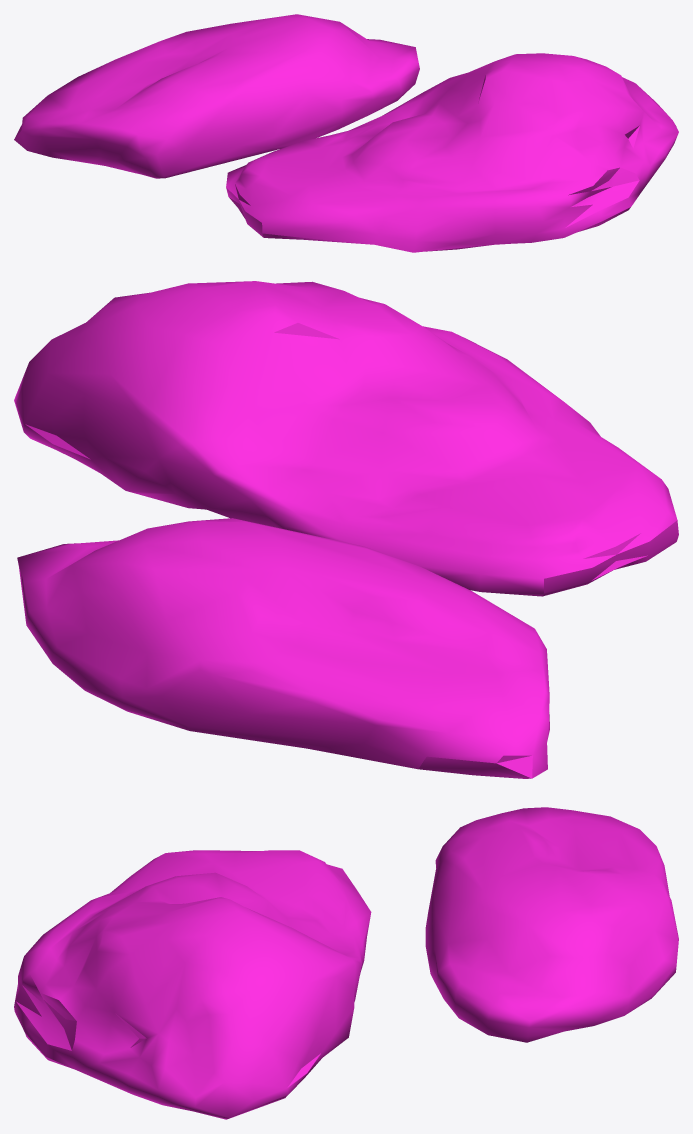
The model's file is sm_rock_03.gltf.
The picture shows the model from 3 angles, top to bottom: view 1: azimuth 30°, elevation 25°; view 2: azimuth 150°, elevation 25°; view 3: azimuth 270°, elevation 25°; orthographic projection. The views are drawn at different scales.
Visible parts, largest first — view 1: sm_rock_03; view 2: sm_rock_03; view 3: sm_rock_03.
Boxes of the visible parts, bbox=[...] form: sm_rock_03: bbox=[14, 14, 678, 252]; sm_rock_03: bbox=[14, 281, 678, 778]; sm_rock_03: bbox=[14, 807, 678, 1119].
Size of the model in its own units: 2.79 by 0.6371 by 2.66.
